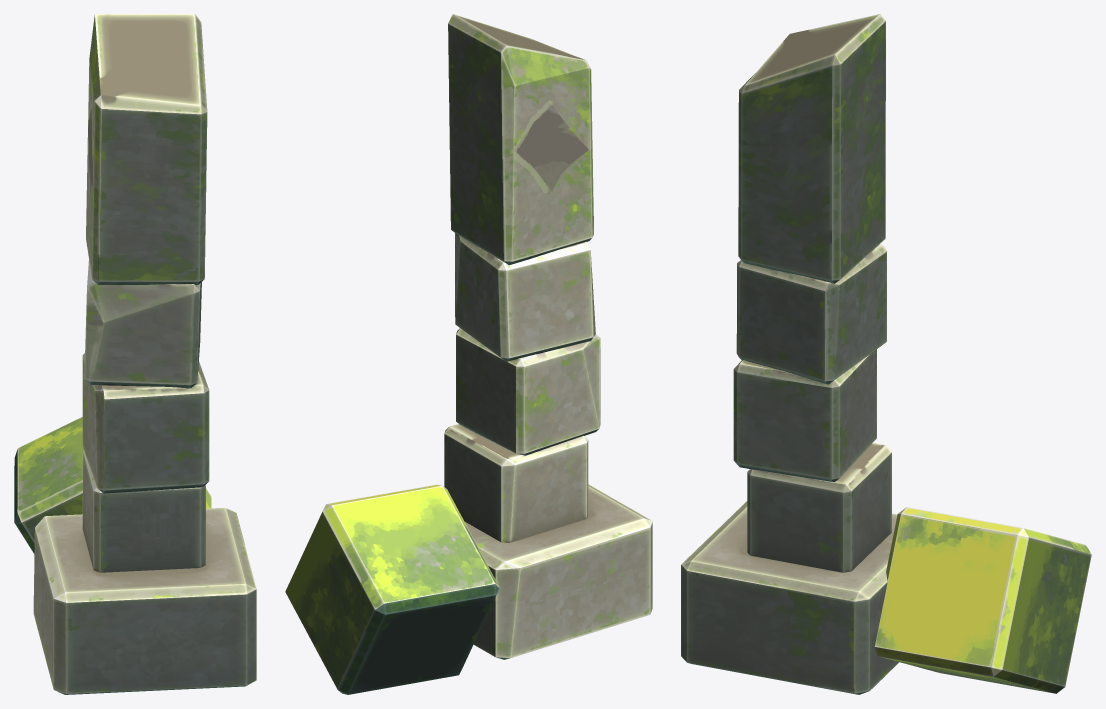
File: stone_pillar5.fbx
3 renders of one model, left to right at view 1: azimuth 30°, elevation 25°; view 2: azimuth 150°, elevation 25°; view 3: azimuth 270°, elevation 25°, orthographic. The views are drawn at different scales.
Parts seen in each view (by area): view 1: stone_pillar5; view 2: stone_pillar5; view 3: stone_pillar5.
Boxes of the visible parts, box(x1,y1,x2,y2) form: stone_pillar5: box(14, 14, 256, 694); stone_pillar5: box(285, 14, 652, 694); stone_pillar5: box(681, 14, 1091, 694).
Bounding box in the file's own units: 101 × 232 × 134.
Materials: 1 (1 with a texture image).
